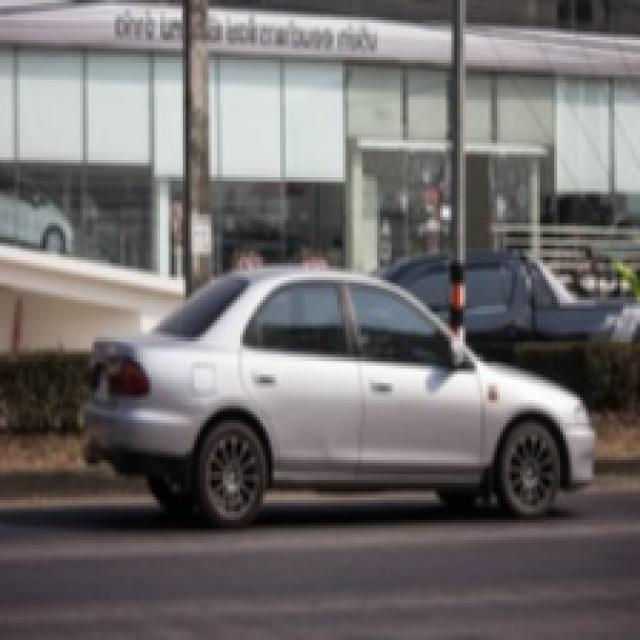car: (79, 289, 592, 519)
